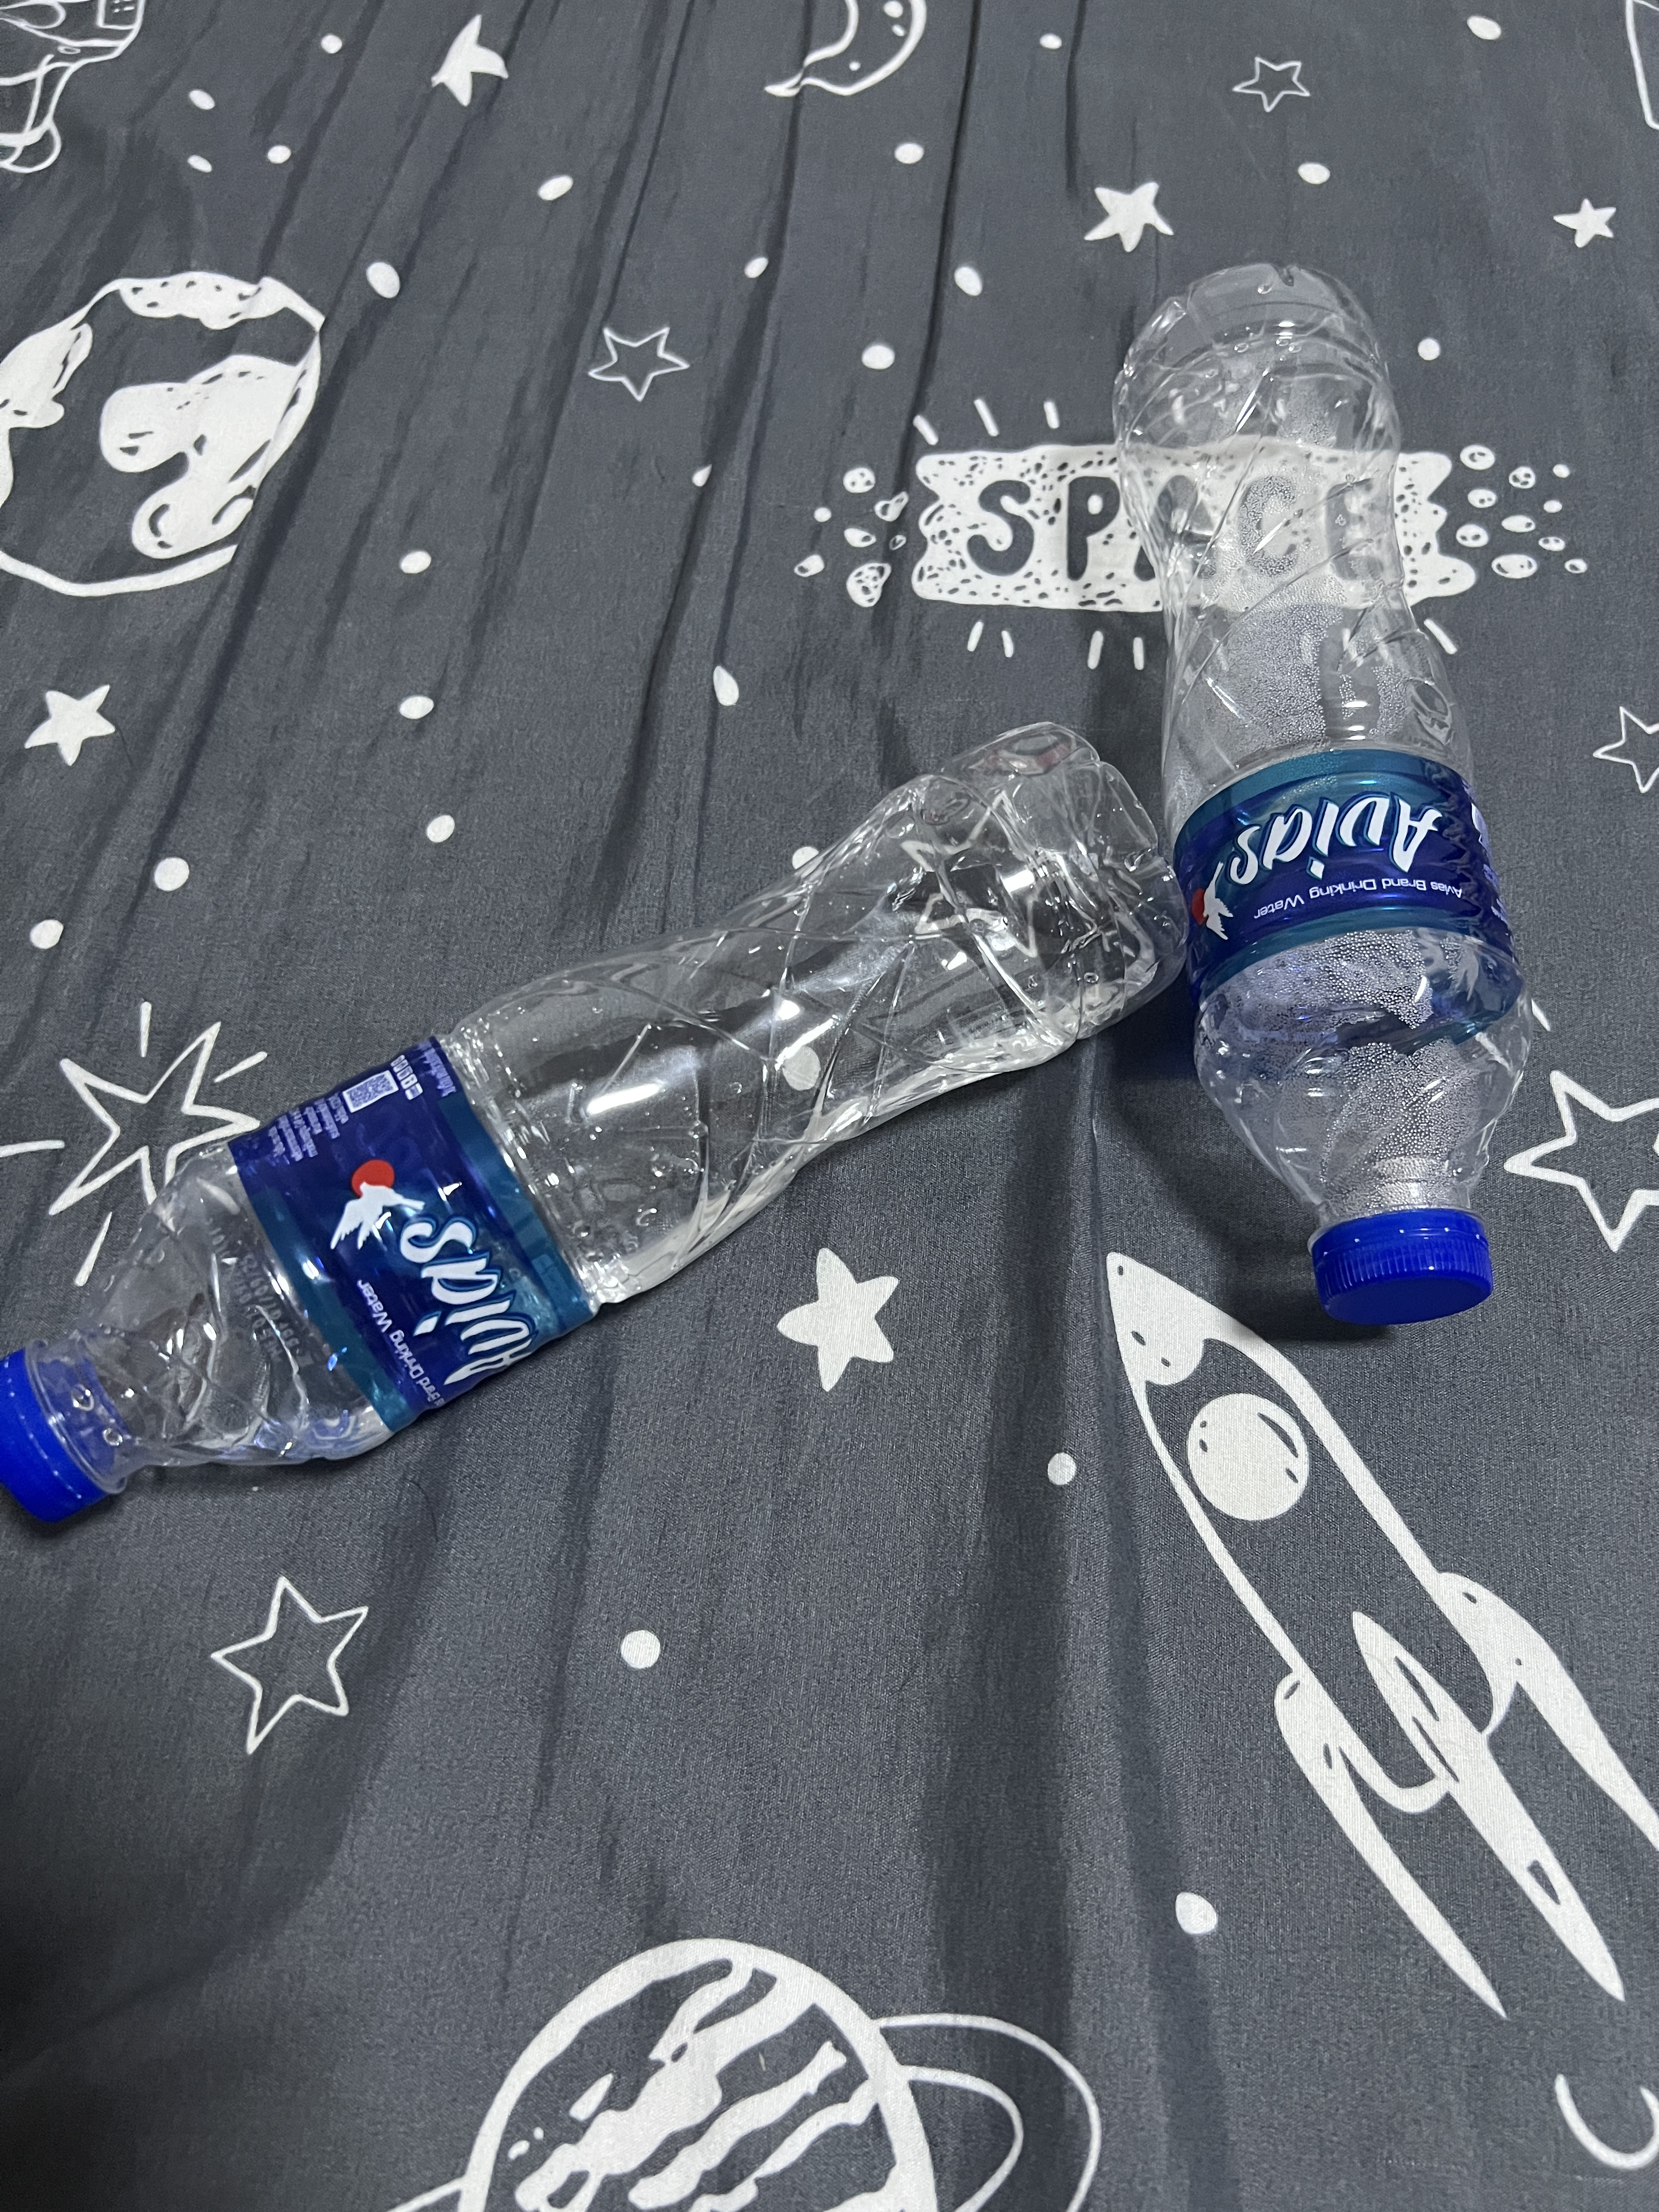plastic_bottle: (0, 716, 1171, 1601), (1091, 246, 1556, 1369)
